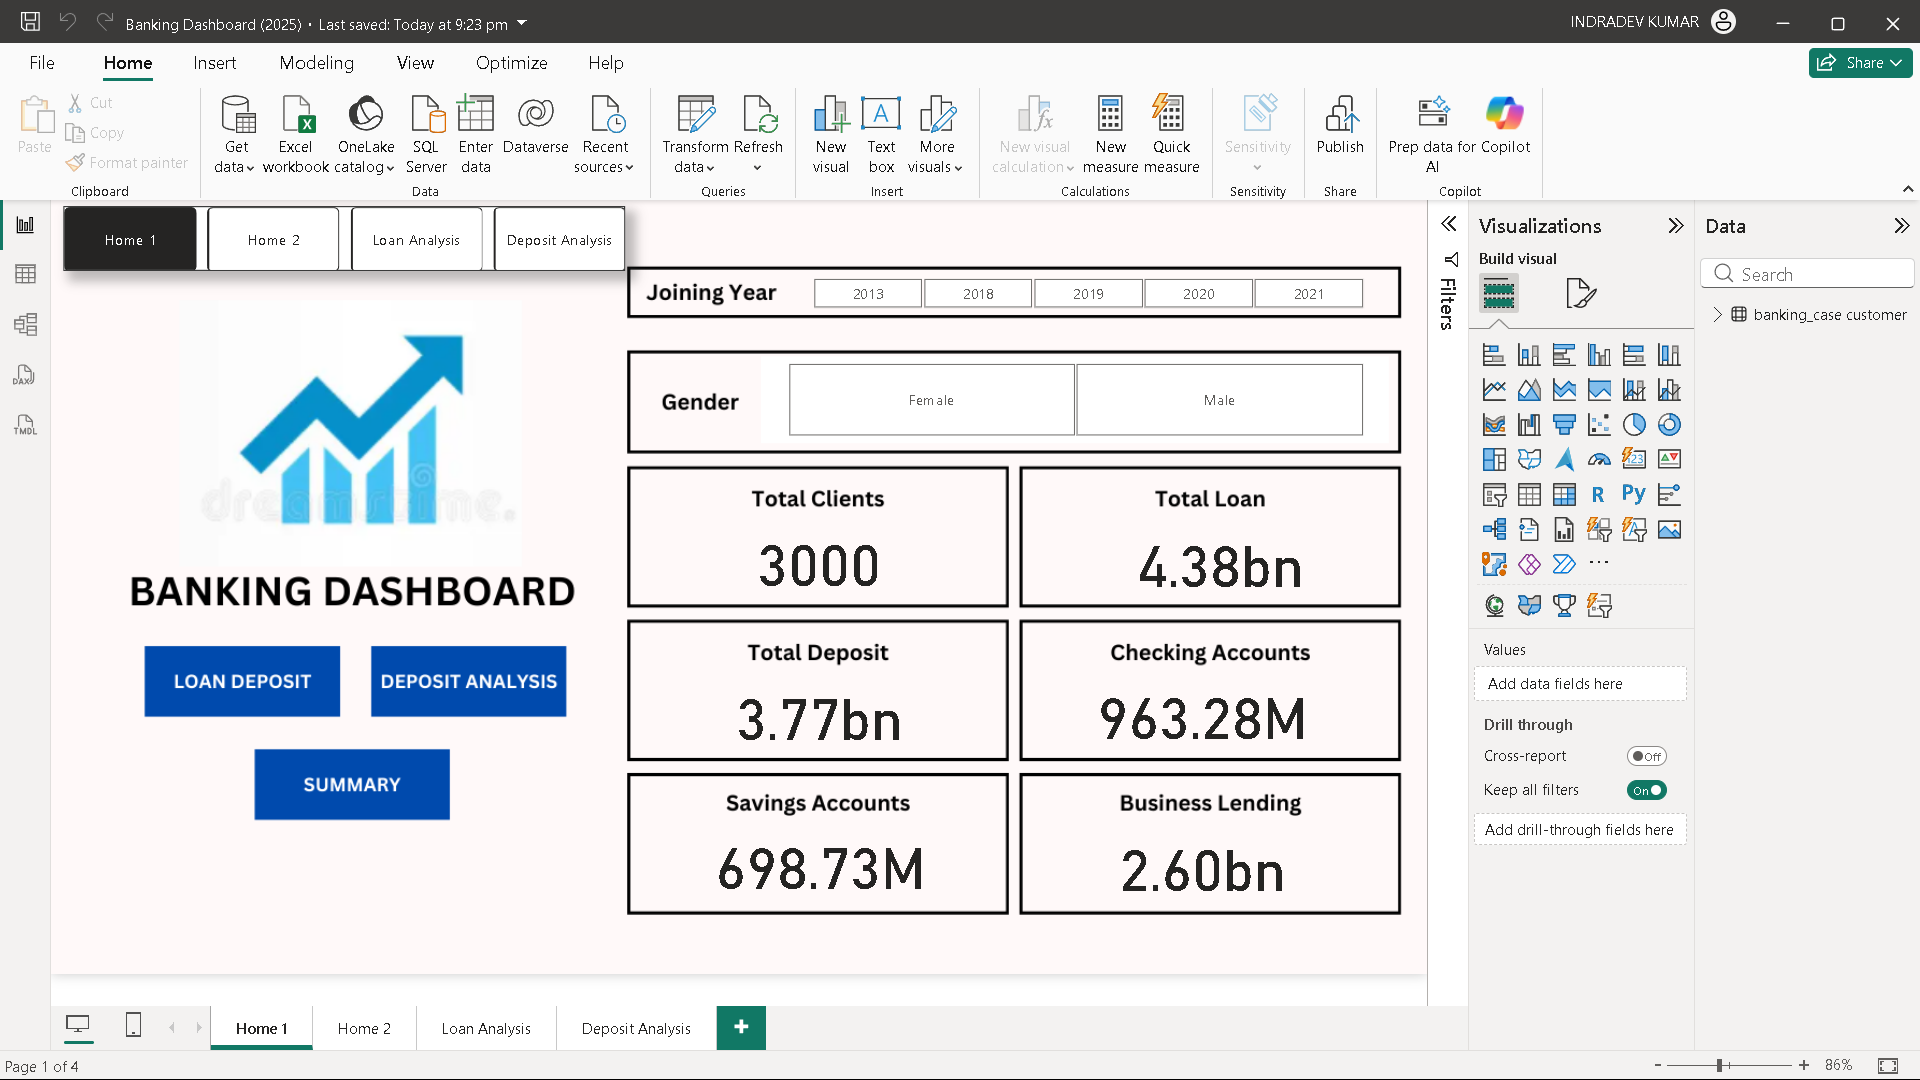

The page's visual inventory and layout, read from the dashboard file:
{"tool":"powerbi","page":{"name":"Home 1","canvas":[1280,720],"ordinal":0},"visuals":[{"type":"card","fields":{"Values":["CountNonNull(banking_case customer.Name)"]},"box":[607.7,295.9,213.7,74.4],"z":0},{"type":"slicer","fields":{"Values":["banking_case customer.GenderId"]},"box":[659.9,145.6,584,80.7],"z":1000},{"type":"card","fields":{"Values":["banking_case customer.Total Loan"]},"box":[981.5,296.2,213.6,74.7],"z":2000},{"type":"card","fields":{"Values":["banking_case customer.Total Deposit"]},"box":[608,439,213.6,74.7],"z":3000},{"type":"slicer","fields":{"Values":["banking_case customer.Year of Joining"]},"box":[684,66.8,560.9,34.1],"z":4000},{"type":"card","fields":{"Values":["Sum(banking_case customer.Saving Accounts)"]},"box":[608.3,577.4,214.3,75],"z":5000},{"type":"card","fields":{"Values":["Sum(banking_case customer.Business Lending)"]},"box":[964.3,578.6,214.3,75],"z":6000},{"type":"card","fields":{"Values":["Sum(banking_case customer.Checking Accounts)"]},"box":[964.3,438.1,214.3,75],"z":7000},{"type":"pageNavigator","box":[11.2,6.2,522.5,60],"z":7001}]}

Visuals, with their boxes on the page's 1280x720 design canvas (x1, y1, x2, y2). These are canvas units, not pixel positions in the 1920x1080 screenshot, which may show the page scaled, cropped or inside an application window:
card - CountNonNull(banking_case customer.Name): region(608, 296, 821, 370)
slicer - banking_case customer.GenderId: region(660, 146, 1244, 226)
card - banking_case customer.Total Loan: region(982, 296, 1195, 371)
card - banking_case customer.Total Deposit: region(608, 439, 822, 514)
slicer - banking_case customer.Year of Joining: region(684, 67, 1245, 101)
card - Sum(banking_case customer.Saving Accounts): region(608, 577, 823, 652)
card - Sum(banking_case customer.Business Lending): region(964, 579, 1179, 654)
card - Sum(banking_case customer.Checking Accounts): region(964, 438, 1179, 513)
pageNavigator: region(11, 6, 534, 66)
